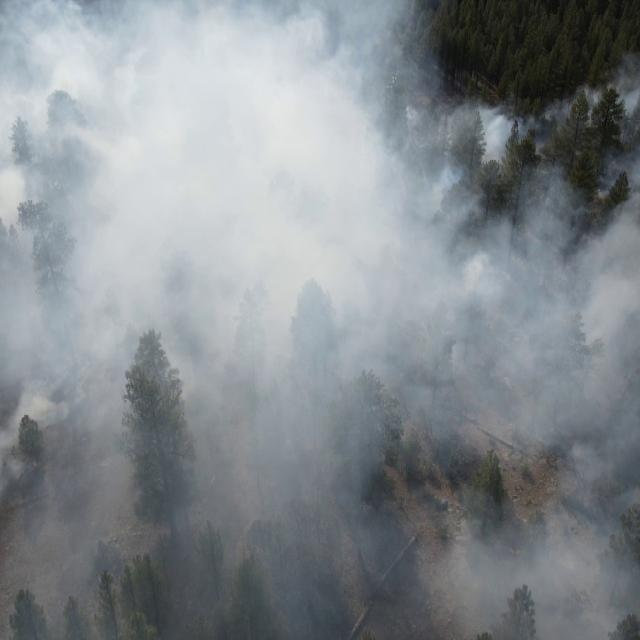smoke: (0, 0, 435, 640), (436, 85, 640, 640), (617, 52, 640, 89)
